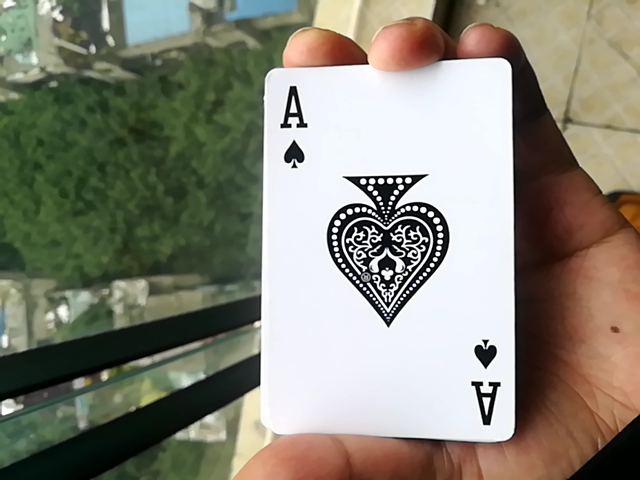ht a: (238, 71, 519, 448)
